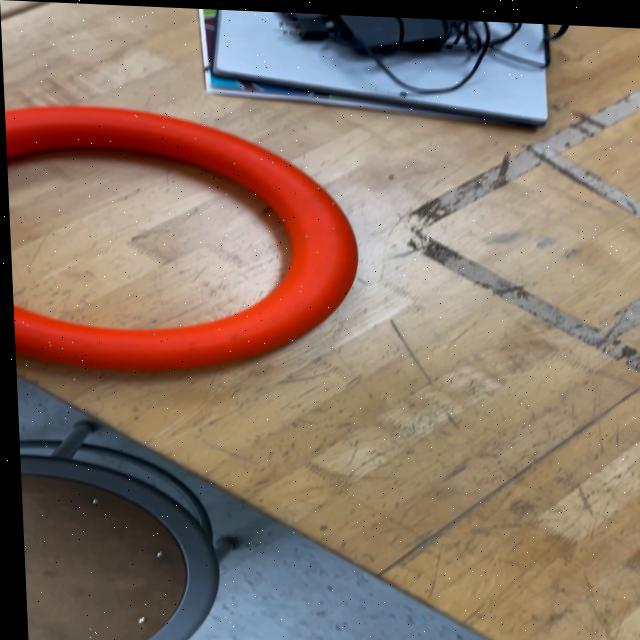note: (4, 100, 364, 382)
